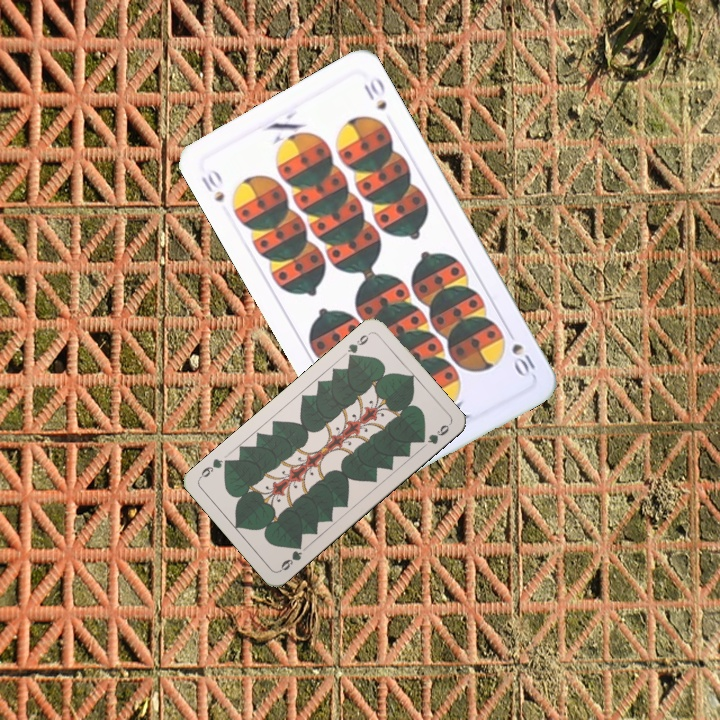G9: (343, 328, 373, 363), (276, 539, 305, 574)
S10: (507, 339, 538, 380), (197, 165, 227, 205)
